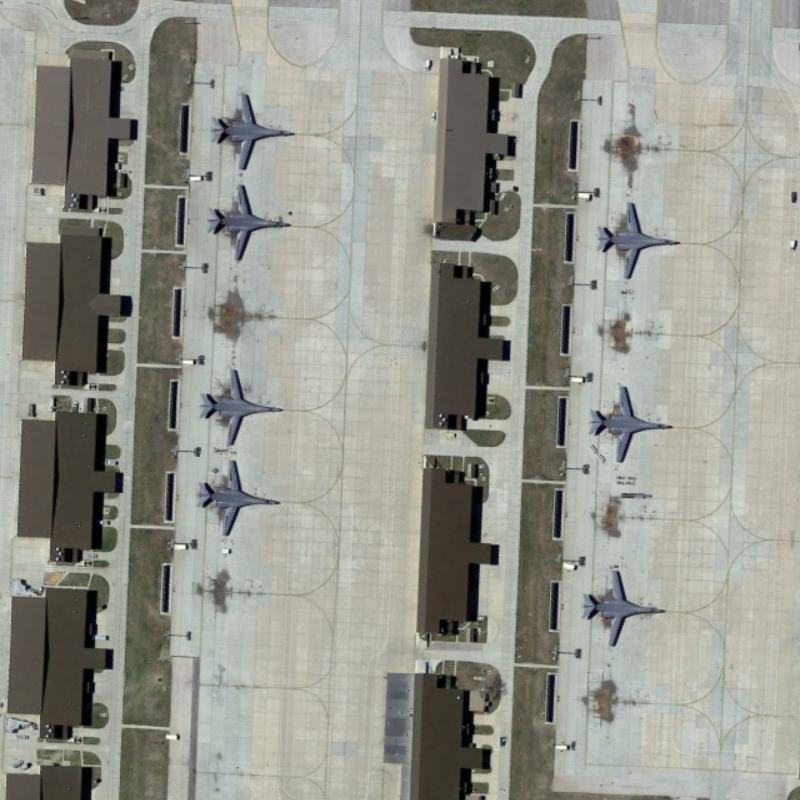A10: (576, 561, 671, 652), (587, 379, 678, 465), (204, 89, 296, 173), (595, 202, 683, 283), (200, 366, 284, 450), (210, 180, 291, 264), (198, 457, 281, 538)
